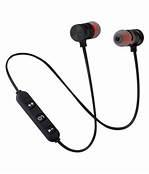headphones: (6, 15, 143, 153)
